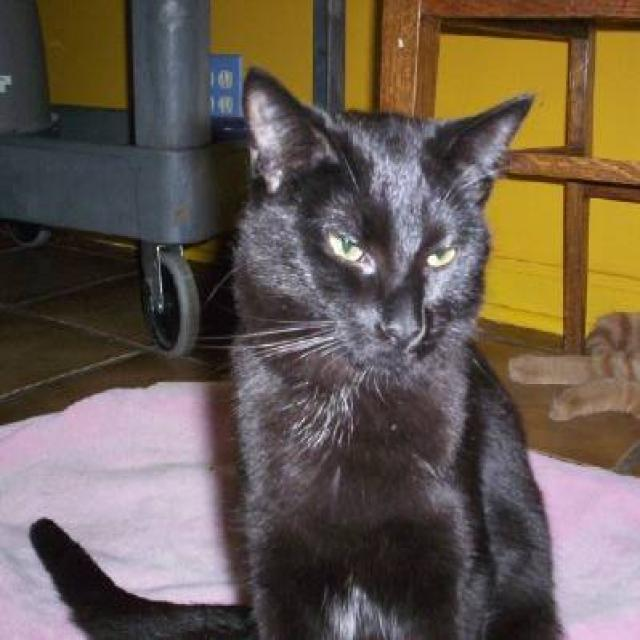cat: (27, 65, 573, 638)
